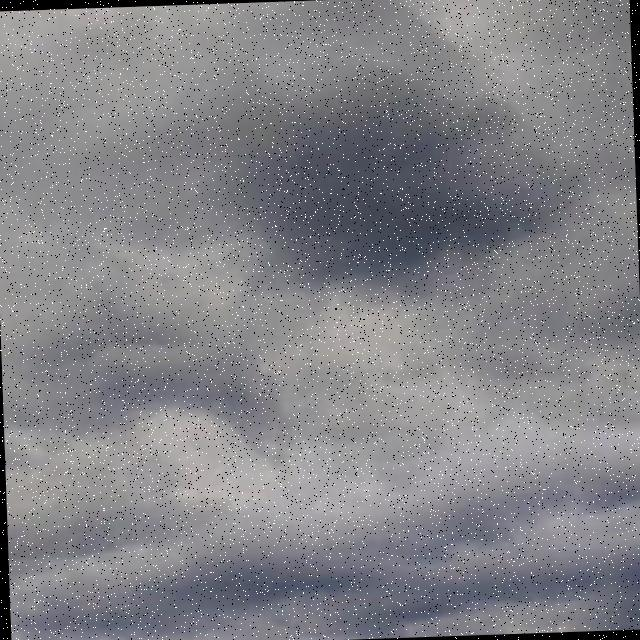As: (1, 1, 640, 564)
